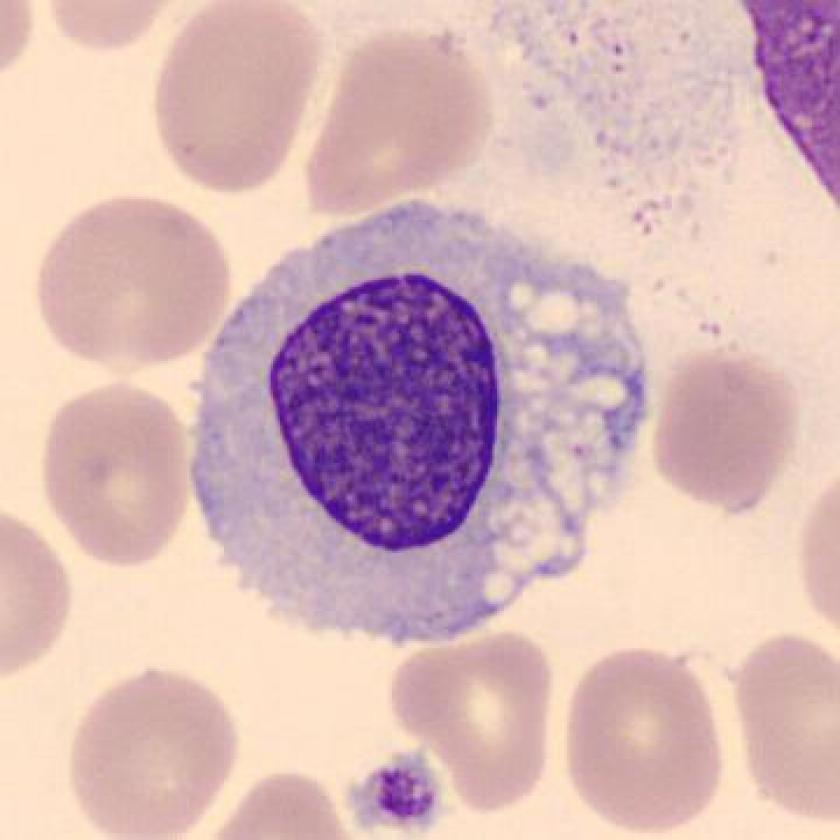monocyte: (181, 177, 664, 672)
